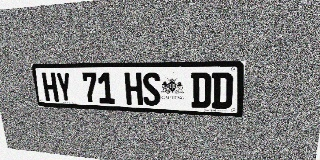1: (97, 72, 115, 104)
7: (81, 72, 99, 103)
D: (211, 72, 233, 109), (191, 72, 211, 108)
H: (124, 72, 143, 105), (41, 72, 59, 102)
S: (142, 72, 161, 106)
Y: (55, 72, 73, 102)
